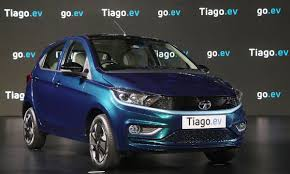Tiago: (20, 32, 251, 170)
